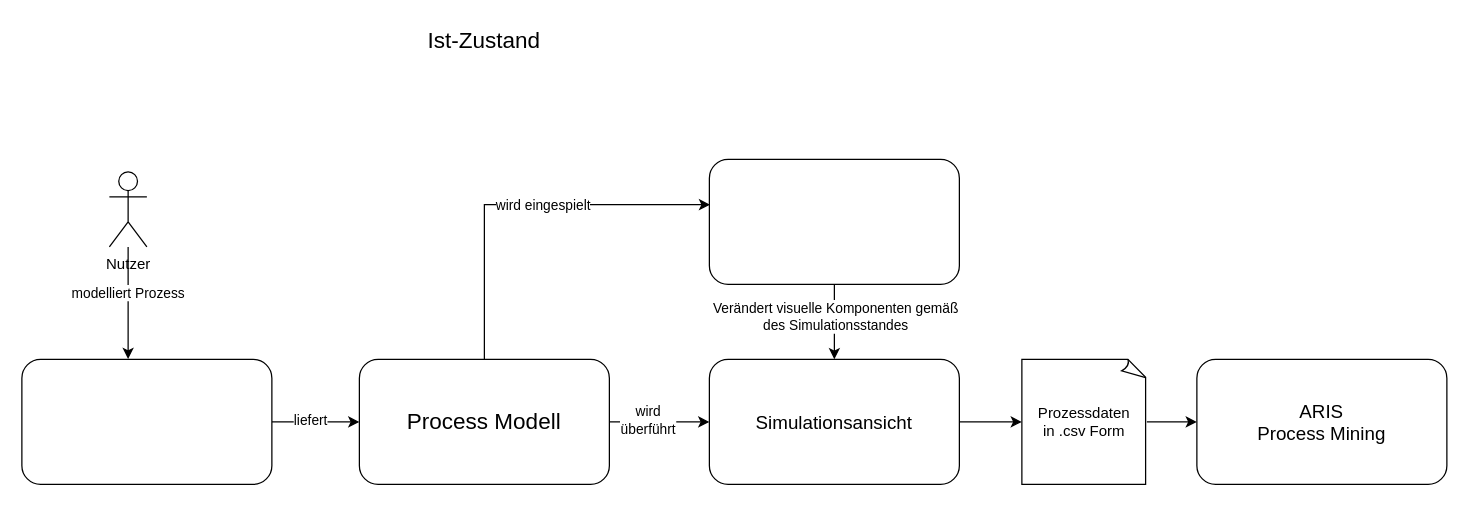
The diagram is 1469 pixels wide and 506 high, and some of its shapes have lost their labels. The shapes that lost their labels are listed below. From the top down, each one's box as (x1, y1, x2, y2) in pixels, then its label:
(708, 158, 959, 284): Simulationsengine
(21, 358, 272, 484): ARIS Designer
